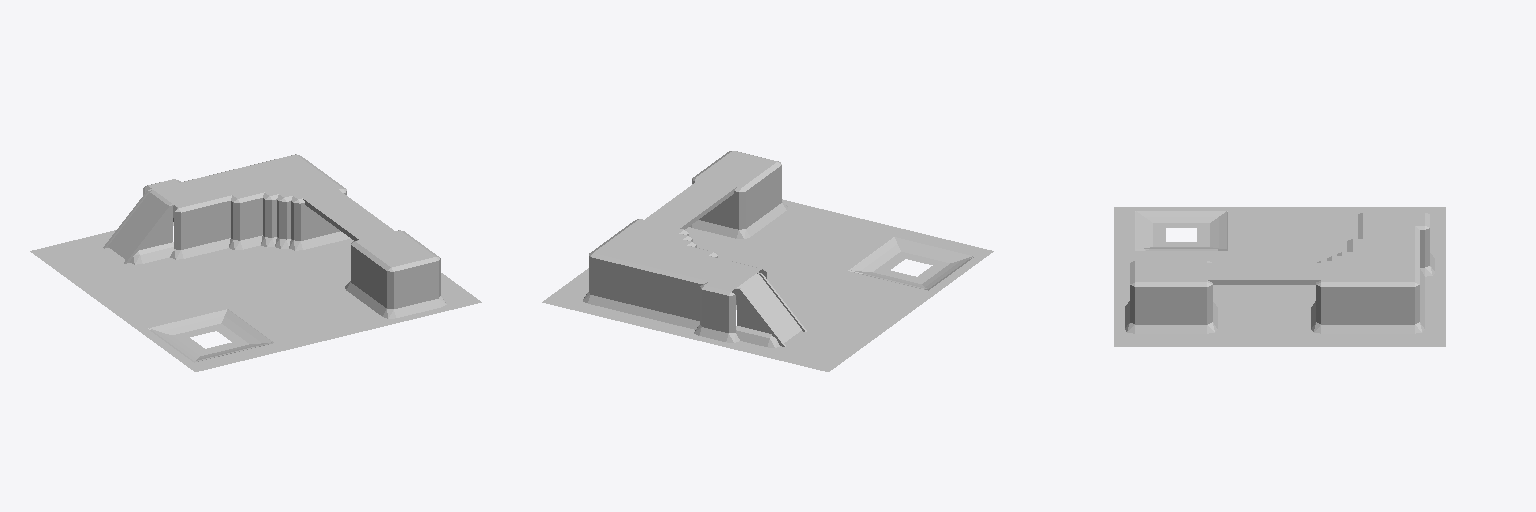
The model's file is TestMap1Again.obj.
3 renders of one model, left to right at view 1: azimuth 30°, elevation 25°; view 2: azimuth 150°, elevation 25°; view 3: azimuth 270°, elevation 25°, orthographic.
Parts seen in each view (by area): view 1: map; view 2: map; view 3: map.
Boxes of the visible parts, <box> form: map: <box>30,154,481,371</box>; map: <box>542,151,993,371</box>; map: <box>1114,207,1445,346</box>.
Bounding box in the file's own units: 32 × 5.56 × 32.